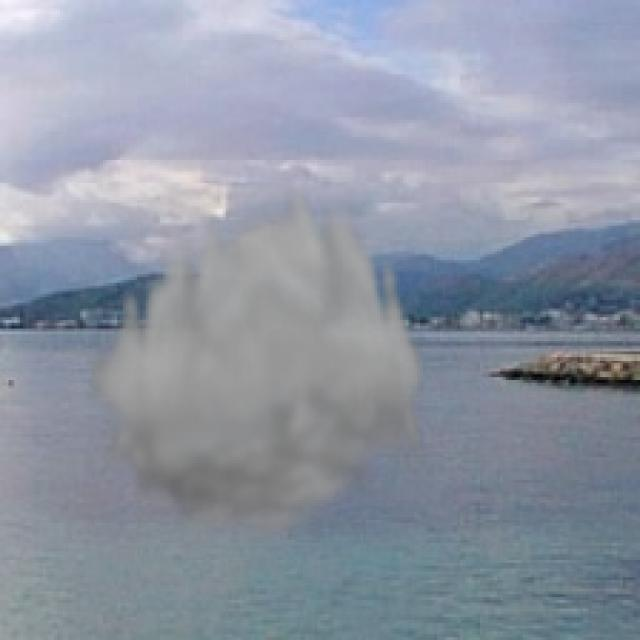Smoke: (82, 171, 428, 546)
